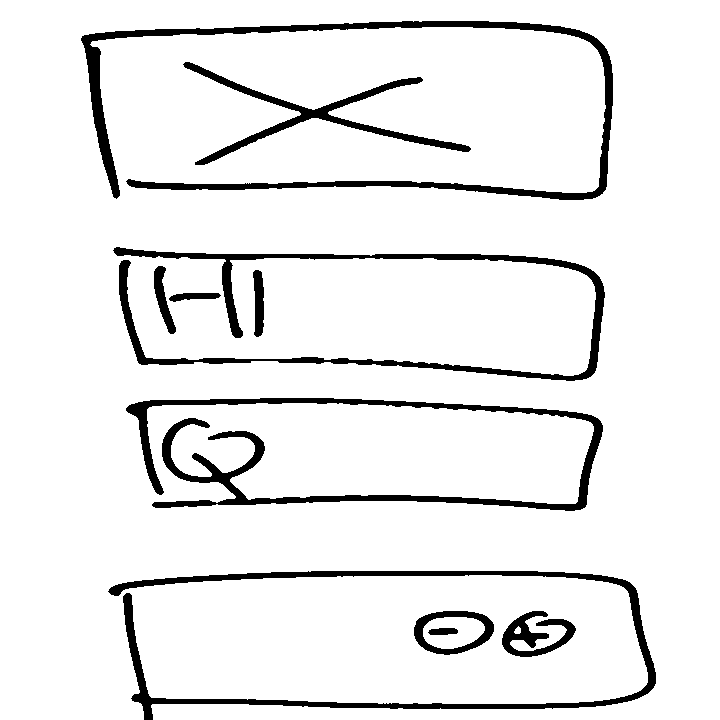heading1: (99, 239, 613, 388)
inline stepper bar: (105, 565, 668, 720)
picture: (69, 10, 630, 218)
search bar: (126, 392, 613, 522)
